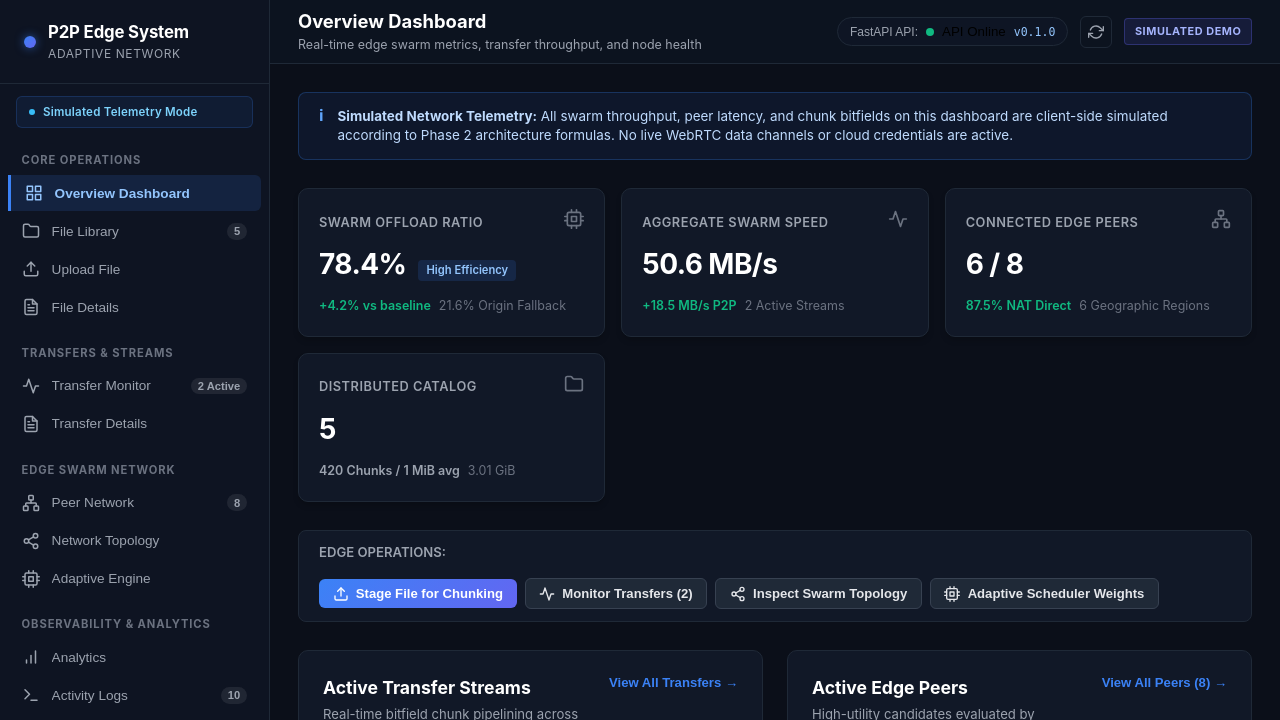
Test: Intelligent P2P Edge Frontend - Phase 3 Navigation & UI › navigates to Analytics and displays throughput timeline
Click the button "Analytics" at {"x": 134, "y": 658}, box [8,640,261,675]
(page scrolled)
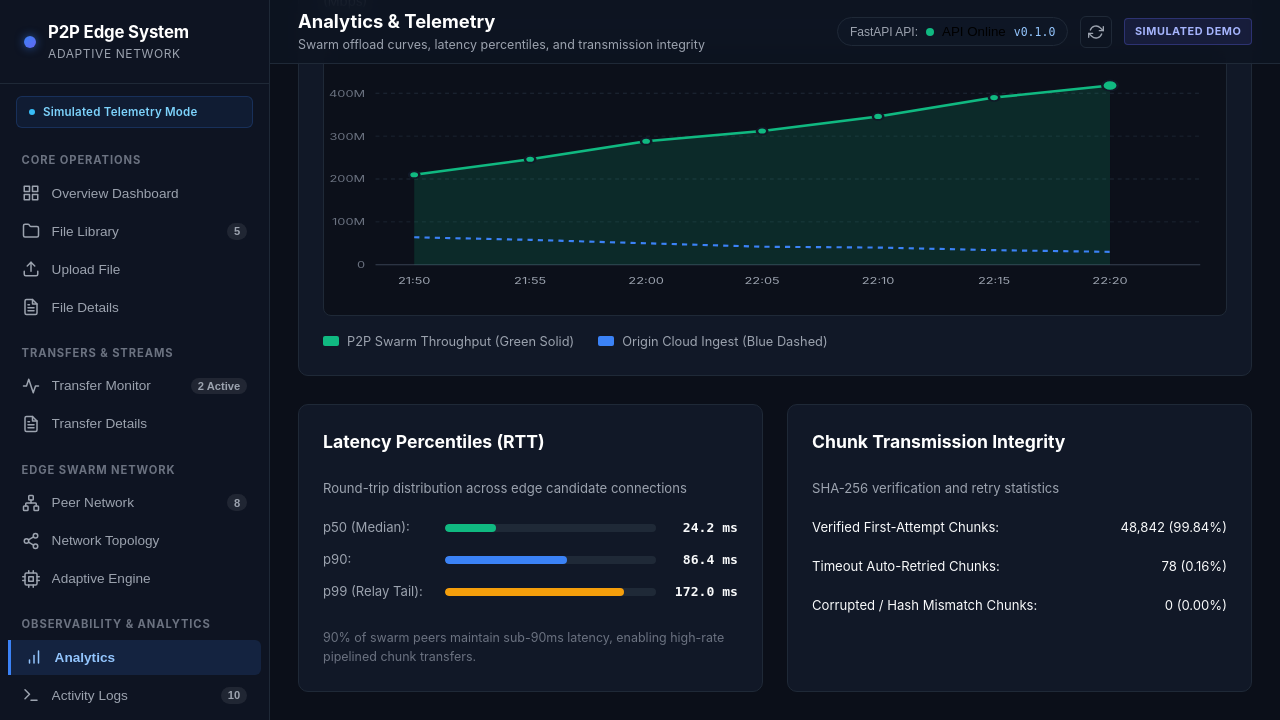
Result: the heading "Latency Percentiles (RTT)" is shown at [323,431,545,452]
